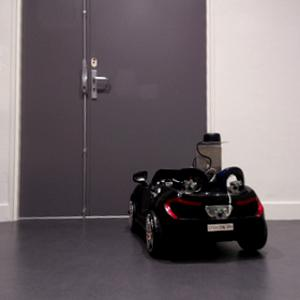big: (127, 165, 271, 261)
